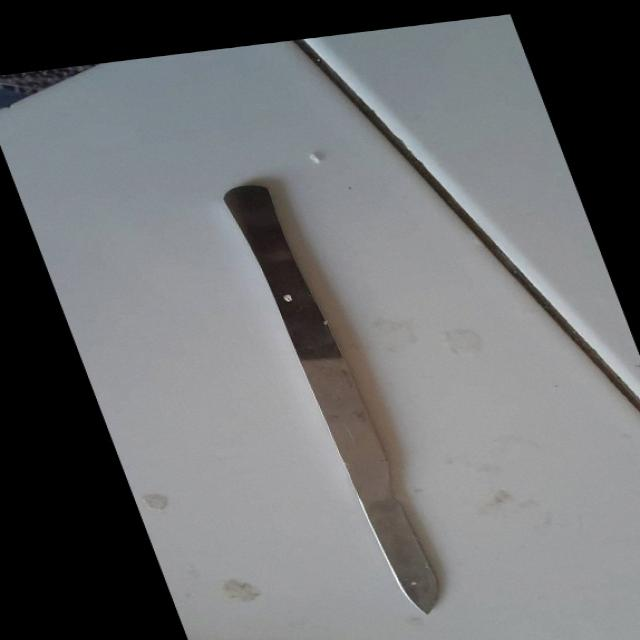Knife: (210, 171, 459, 621)
